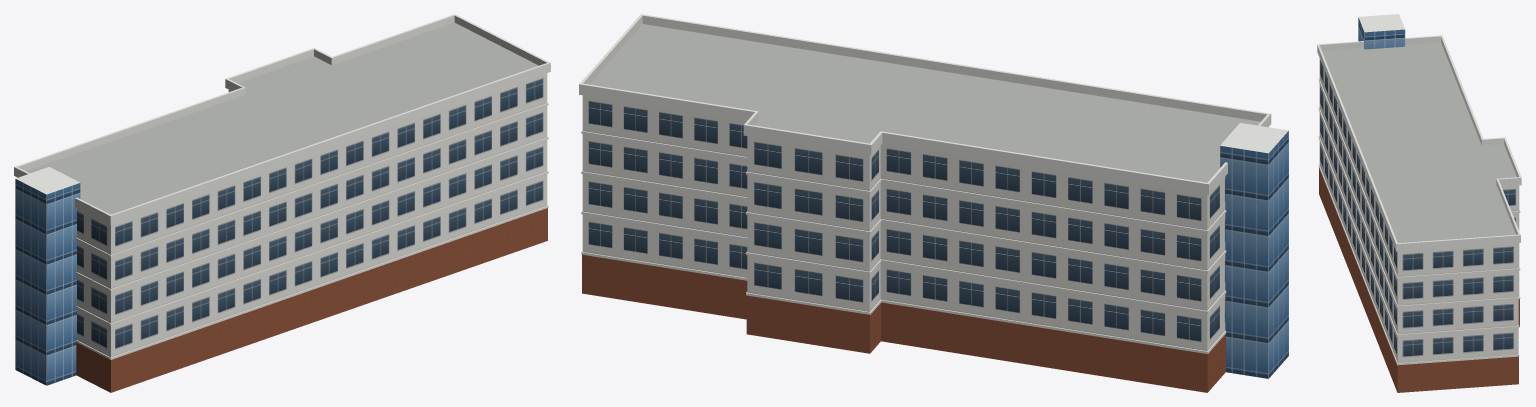
Rendered from qiminglou.glb.
3 renders of one model, left to right at view 1: azimuth 30°, elevation 25°; view 2: azimuth 150°, elevation 25°; view 3: azimuth 270°, elevation 25°, orthographic. The views are drawn at different scales.
Visible parts, largest first — view 1: 启明楼; view 2: 启明楼; view 3: 启明楼.
Part boxes in pixels (bbox=[...]): 启明楼: bbox=[14, 14, 550, 392]; 启明楼: bbox=[579, 14, 1288, 392]; 启明楼: bbox=[1317, 14, 1521, 392].
Size of the model in its own units: 62.81 by 21.5 by 24.8.
5 materials, 3 textured.
